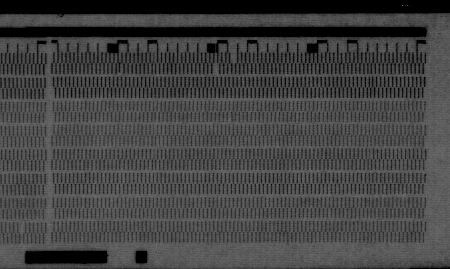Broken hole: (228, 53, 239, 65), (16, 220, 27, 232), (211, 64, 220, 76)
Oblique printing: (111, 63, 126, 76)
